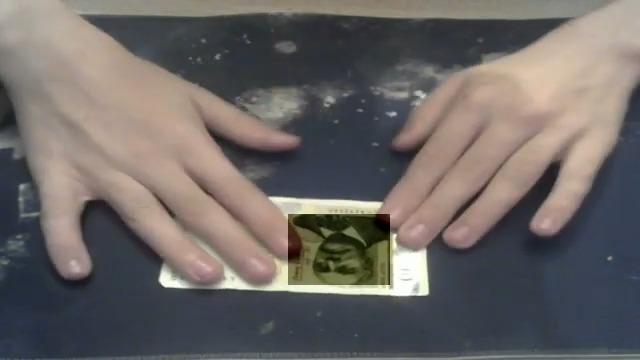10leva: (289, 215, 390, 285)
